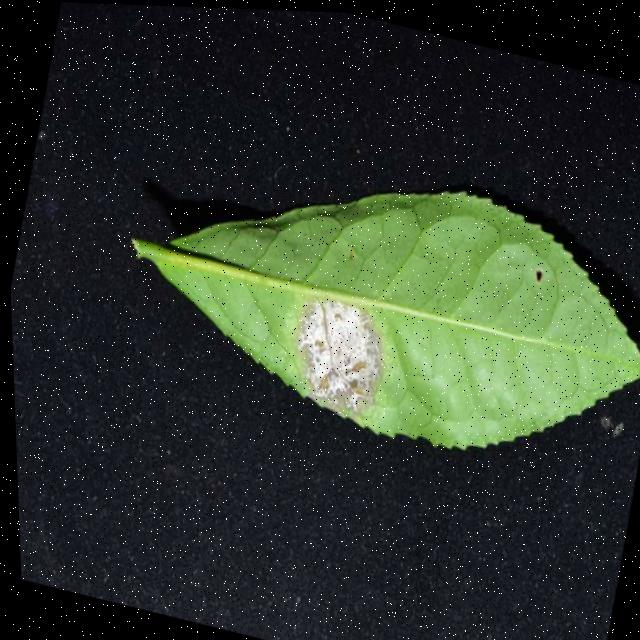Tea exobasidium blight: (279, 281, 392, 410)
